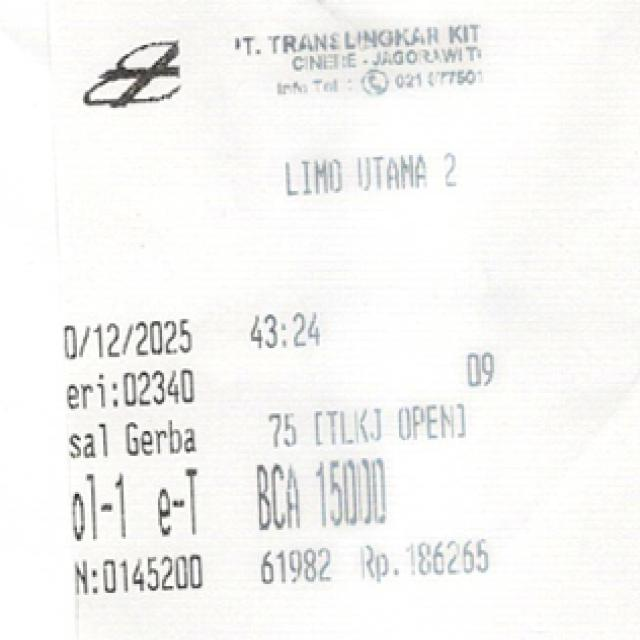date: (59, 314, 196, 356)
store: (221, 22, 494, 64)
total: (308, 457, 412, 528)
